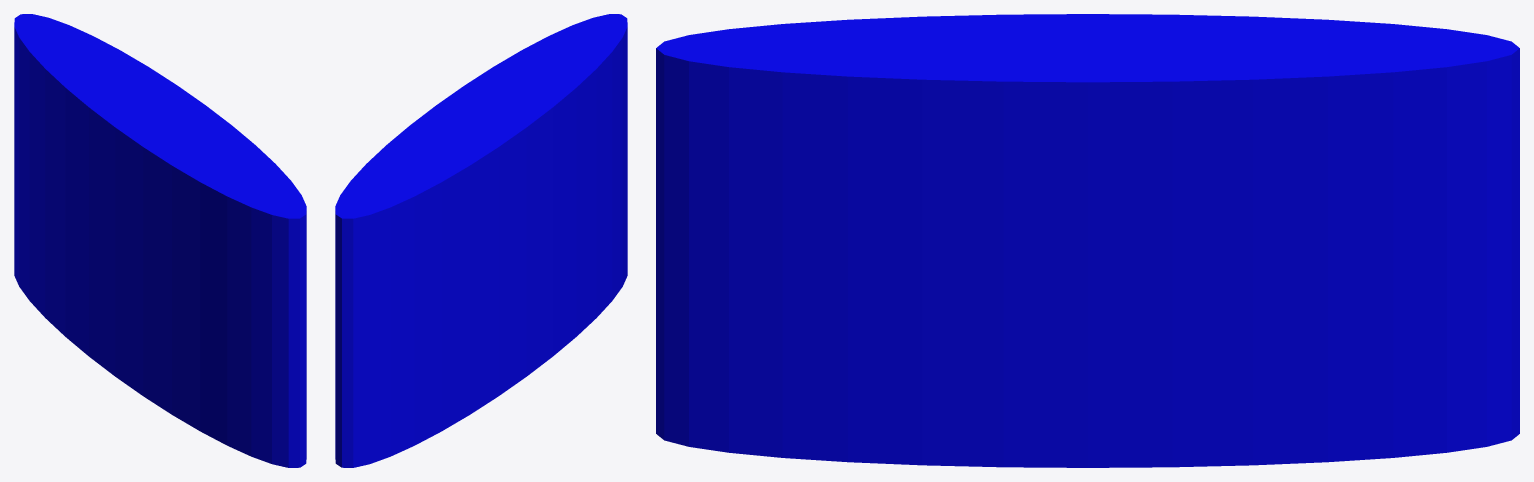
Rendered from paddle.obj.
3 views of the same model, side by side, from view 1: azimuth 30°, elevation 25°; view 2: azimuth 150°, elevation 25°; view 3: azimuth 270°, elevation 25° (orthographic). The views are drawn at different scales.
Parts seen in each view (by area): view 1: Cylinder; view 2: Cylinder; view 3: Cylinder.
Boxes of the visible parts, x1=… form: Cylinder: x1=14, y1=14, x2=306, y2=467; Cylinder: x1=335, y1=14, x2=627, y2=467; Cylinder: x1=656, y1=14, x2=1519, y2=467.
Size of the model in its own units: 0.76 by 2 by 4.06.
Materials: 1 (1 with a texture image).
